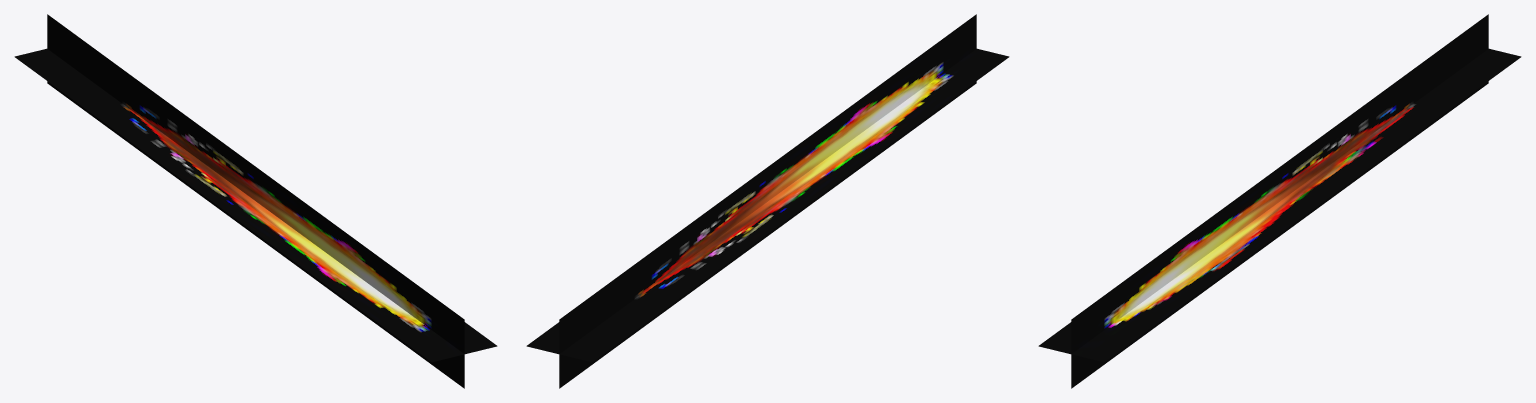
Rendered from bullet_0.FBX.
3 views of the same model, side by side, from view 1: azimuth 30°, elevation 25°; view 2: azimuth 150°, elevation 25°; view 3: azimuth 330°, elevation 25° (orthographic).
Visible parts, largest first — view 1: Plane002; view 2: Plane002; view 3: Plane002.
Boxes of the visible parts, x1,y1,x2,y2 form: Plane002: [14, 14, 497, 388]; Plane002: [526, 14, 1009, 388]; Plane002: [1038, 14, 1521, 388].
Size of the model in its own units: 2.28 by 2.28 by 24.89.
2 materials, 2 textured.
